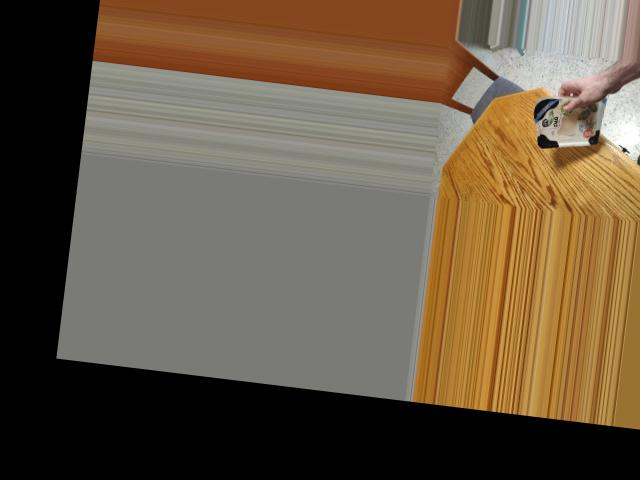cheese: (528, 83, 609, 155)
